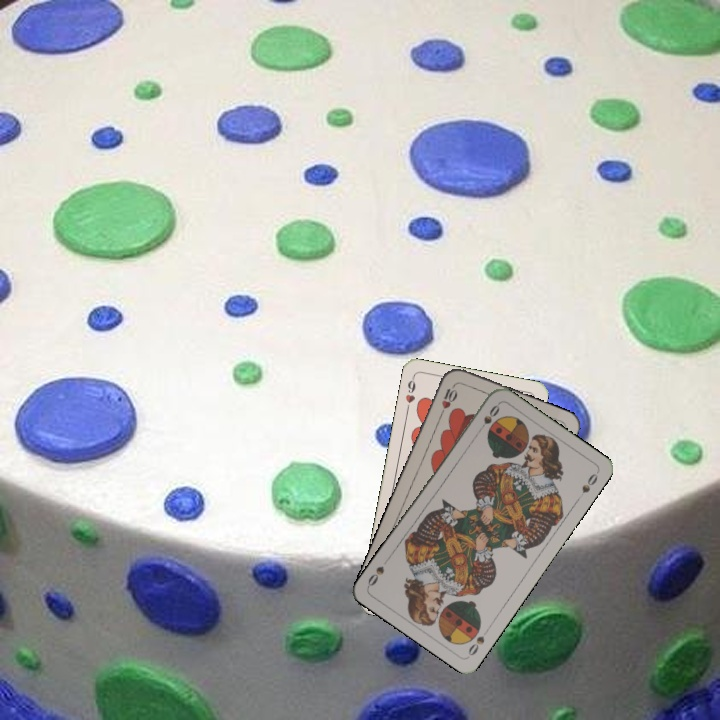H10: (436, 380, 460, 418)
H9: (401, 373, 418, 413)
SO: (473, 400, 502, 435), (464, 632, 487, 658)
